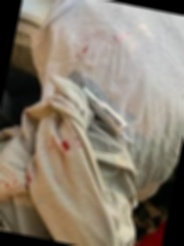blood: (59, 138, 71, 154)
